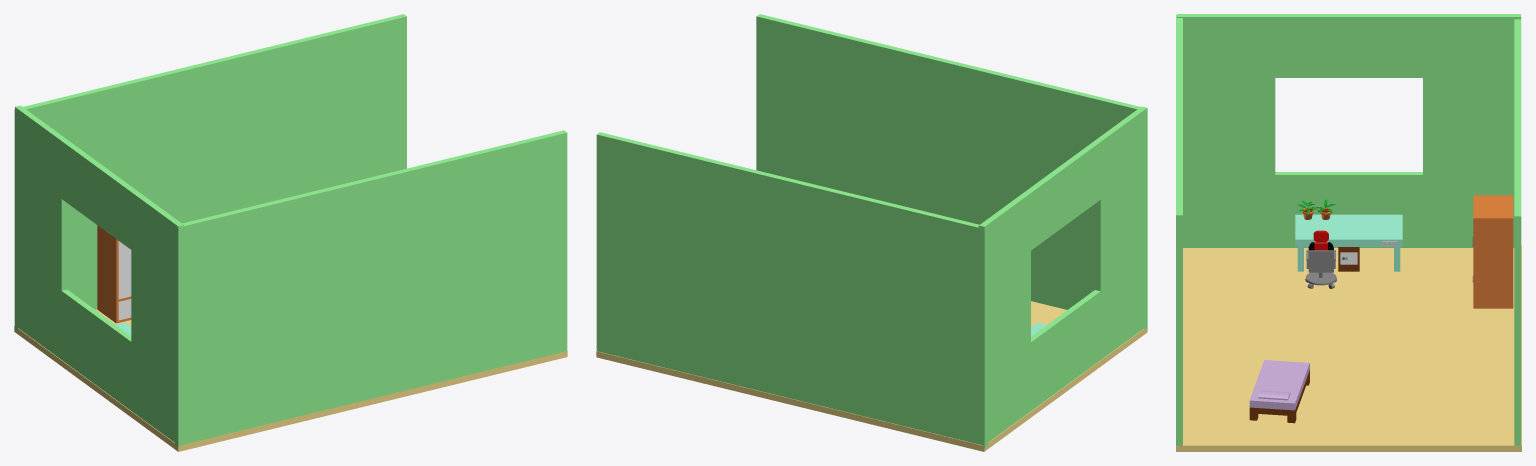
The model's file is bedroomtallwalls1.glb.
3 renders of one model, left to right at view 1: azimuth 30°, elevation 25°; view 2: azimuth 150°, elevation 25°; view 3: azimuth 270°, elevation 25°, orthographic. The views are drawn at different scales.
Visible parts, largest first — view 1: room_wall_front_2; view 2: room_wall_front_2; view 3: room_wall_front_2.
Part boxes in pixels (x1,y1,x2,y2): room_wall_front_2: (14, 14, 567, 451); room_wall_front_2: (596, 14, 1147, 451); room_wall_front_2: (1176, 14, 1521, 451).
Bounding box in the file's own units: 18.51 × 10.25 × 13.51.
